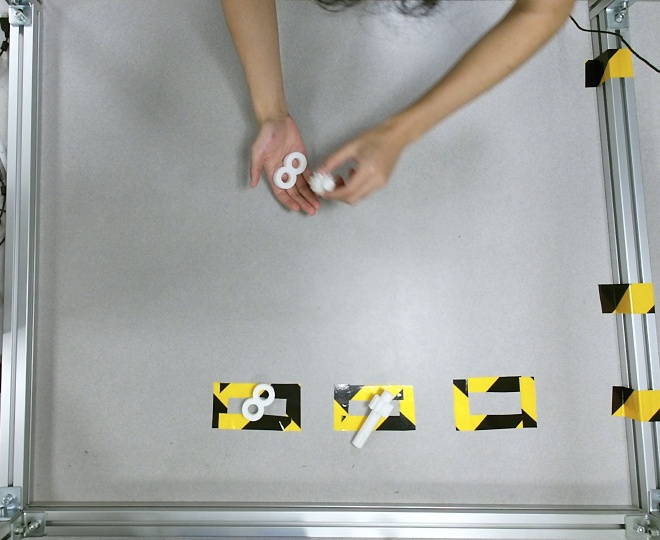stage_1: (273, 152, 307, 188)
